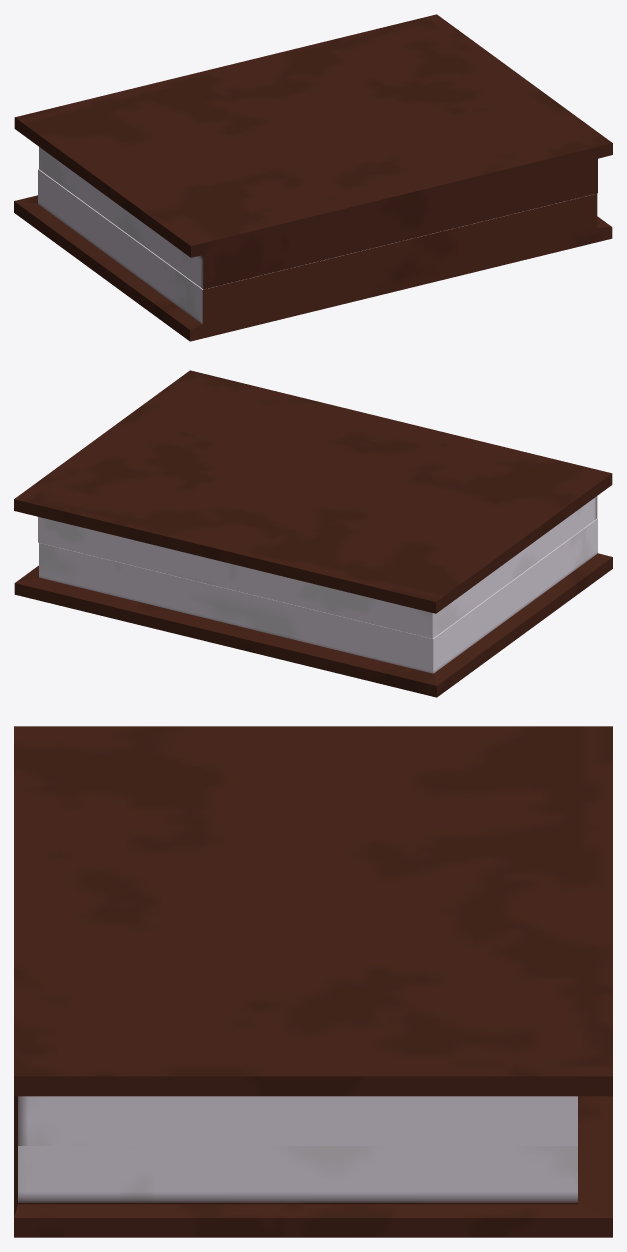
File: book.glb
3 views of the same model, one above another, from view 1: azimuth 30°, elevation 25°; view 2: azimuth 150°, elevation 25°; view 3: azimuth 270°, elevation 25° (orthographic). The views are drawn at different scales.
Visible parts, largest first — view 1: Book.002, Book.001; view 2: Book.002, Book.001; view 3: Book.002, Book.001.
Boxes of the visible parts, <box> form: Book.002: <box>14,14,612,289</box>; Book.001: <box>14,169,612,341</box>; Book.002: <box>14,370,612,638</box>; Book.001: <box>14,518,612,697</box>; Book.002: <box>14,726,612,1145</box>; Book.001: <box>14,1096,612,1237</box>.
Bounding box in the file's own units: 0.4631 × 0.0997 × 0.3341.
Materials: 1 (1 with a texture image).
